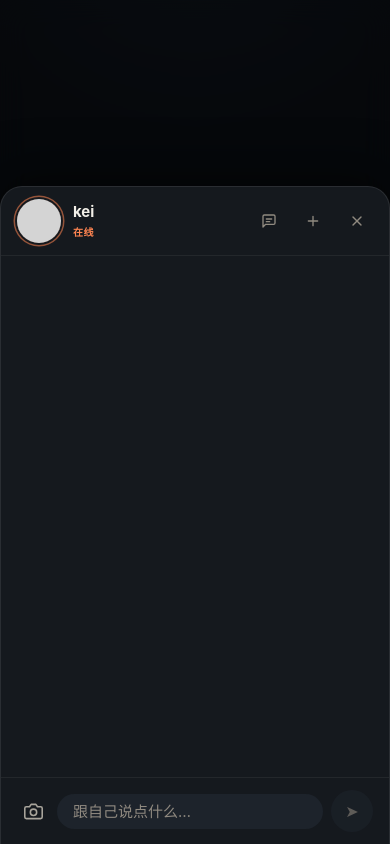
Scenario: AvatarChat — Hook 顺序回归（两次事故的守护） › 输入并 Enter 不抛错
Type "今天练了啥" into the field with placeholder "跟自己说点什么…" at [190, 811], box [57,794,323,828]
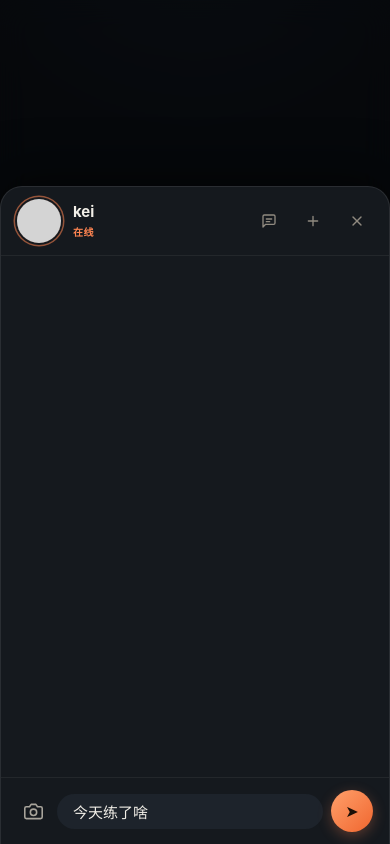
Press Enter in the field with placeholder "跟自己说点什么…", box [57,794,323,828]
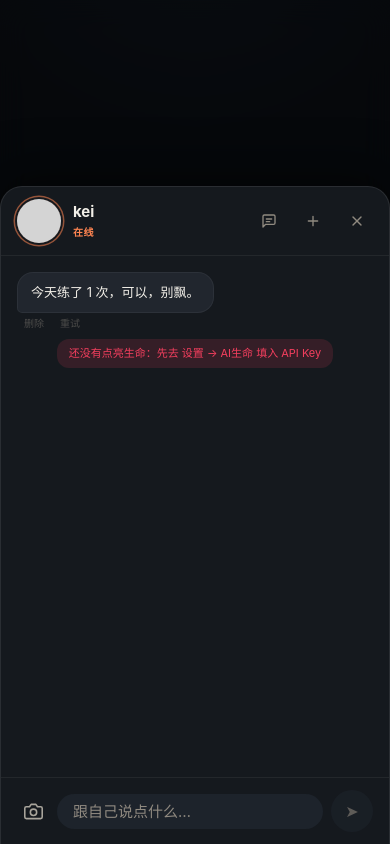
Now the text "今天练了啥" is shown, box [17,272,214,312]
